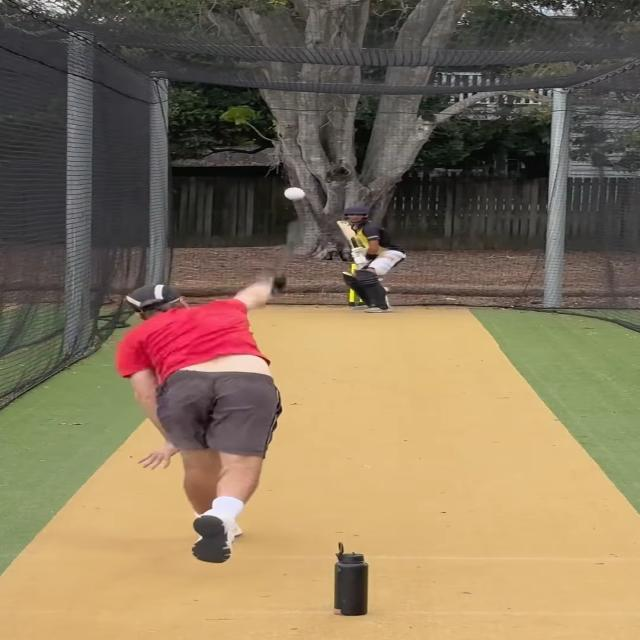Cricket ball: (278, 184, 312, 203)
